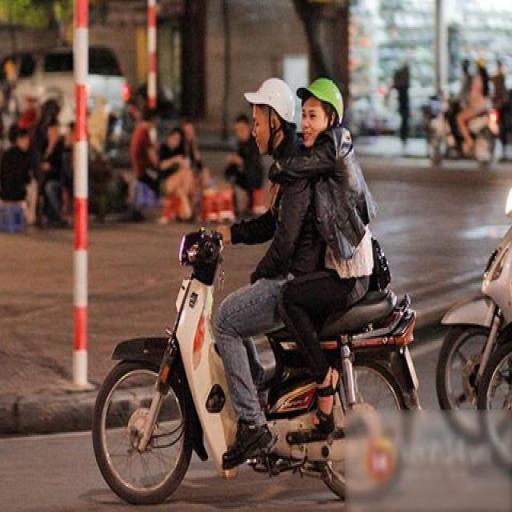with helmet: (234, 66, 300, 126), (296, 72, 350, 122)
